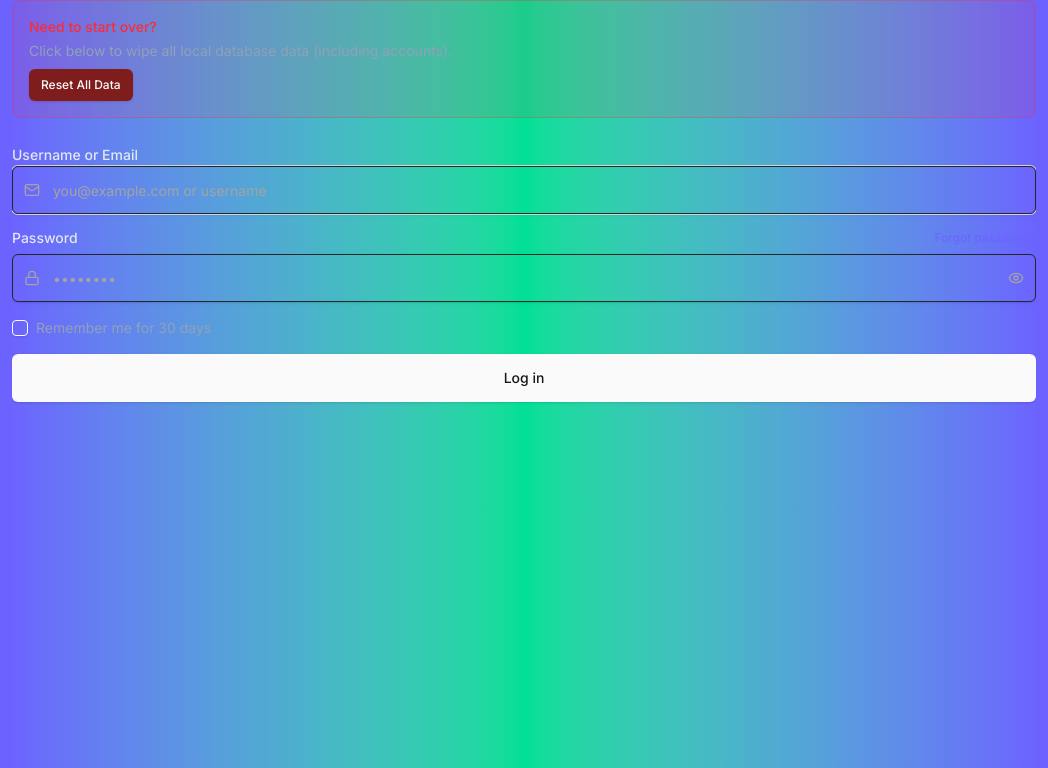
it: Login — spec A.1 / C.1 / C.3 / A.3 / B.3 › shows the network message when offline (C.3)
Type "user@example.com" into the field labelled "Username or Email" at (524, 190), box [12,166,1036,214]
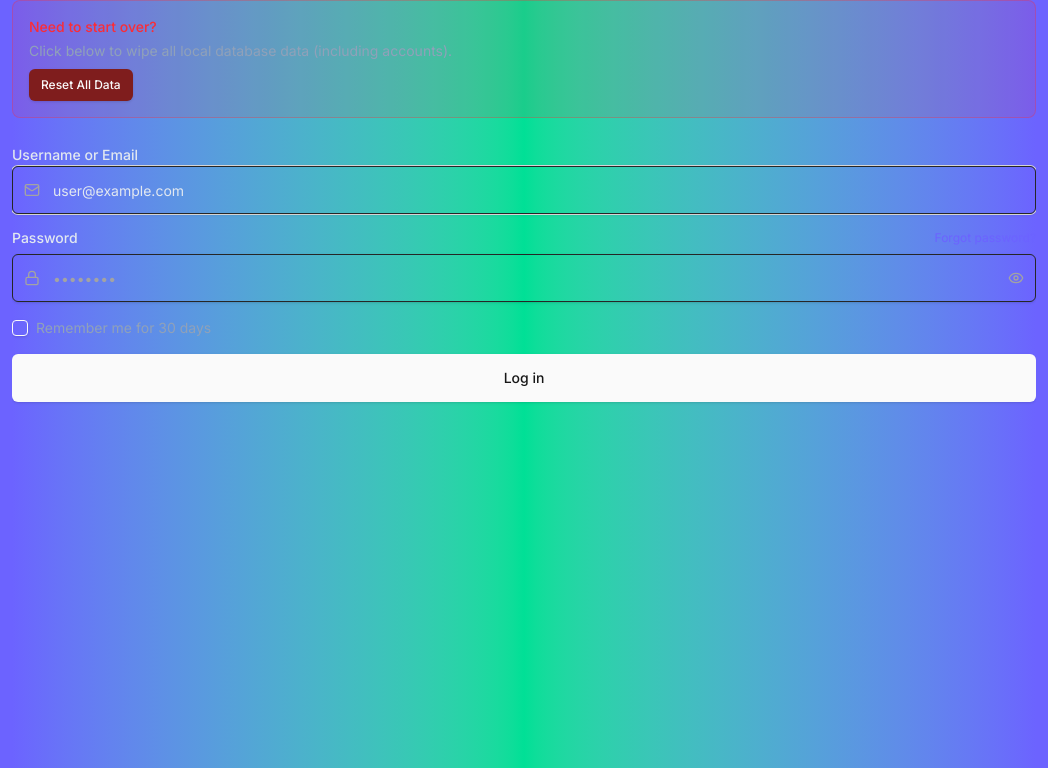
Type "secret123" into the password field labelled "Password" at (524, 278), box [12,254,1036,302]
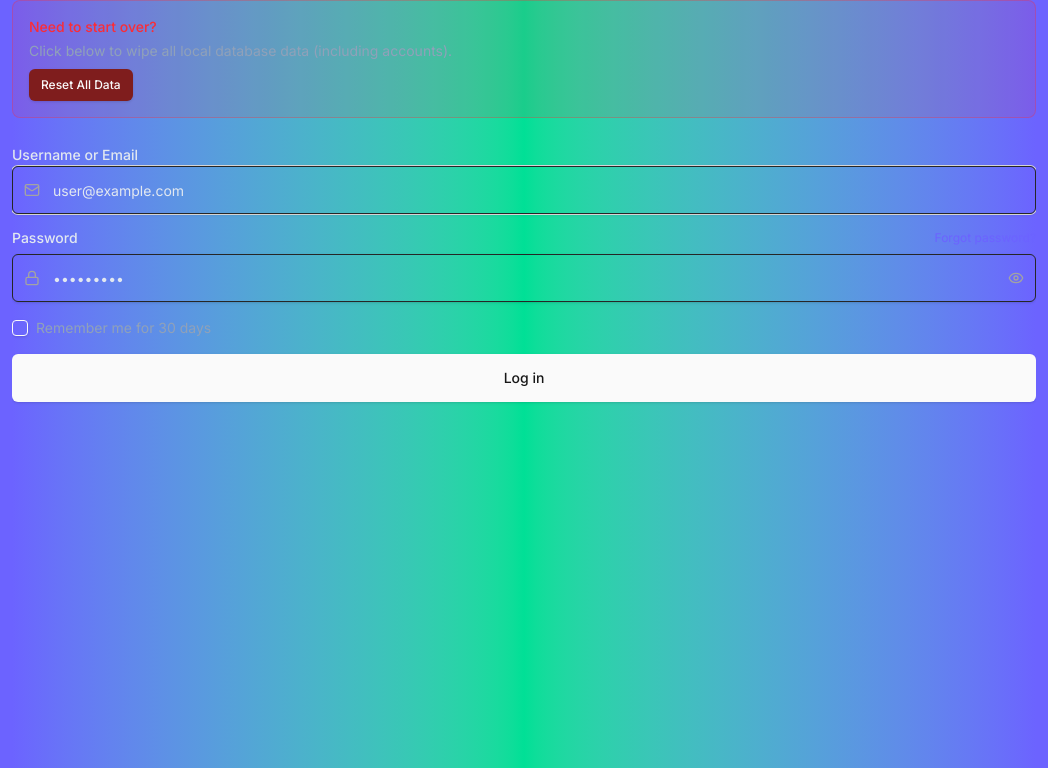
Click the button "Log in" at (524, 378), box [12,354,1036,402]
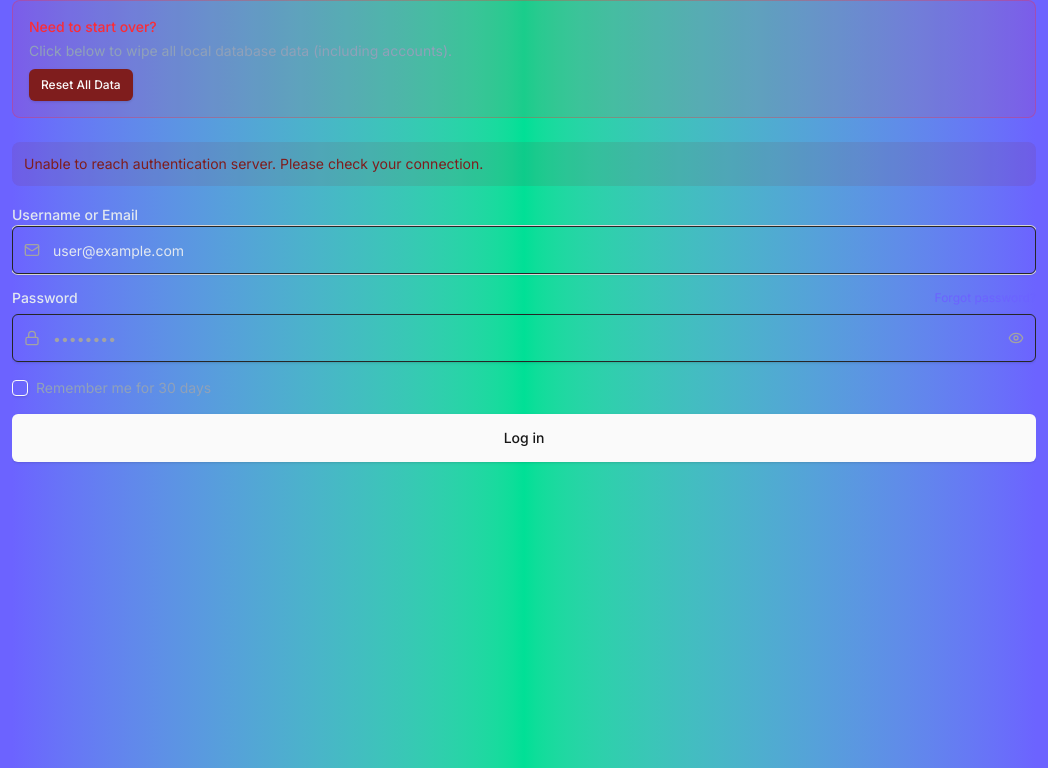
expect the text "Unable to reach authentication server" is shown: met, box [24,155,483,172]
